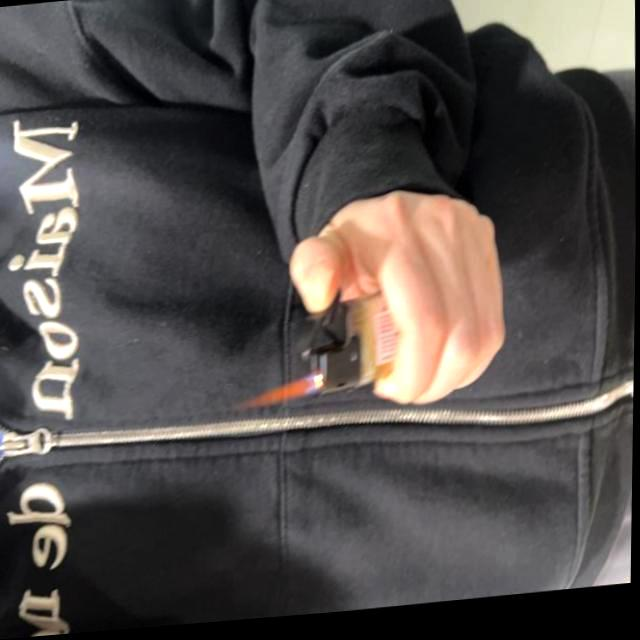fire: (246, 379, 318, 413)
